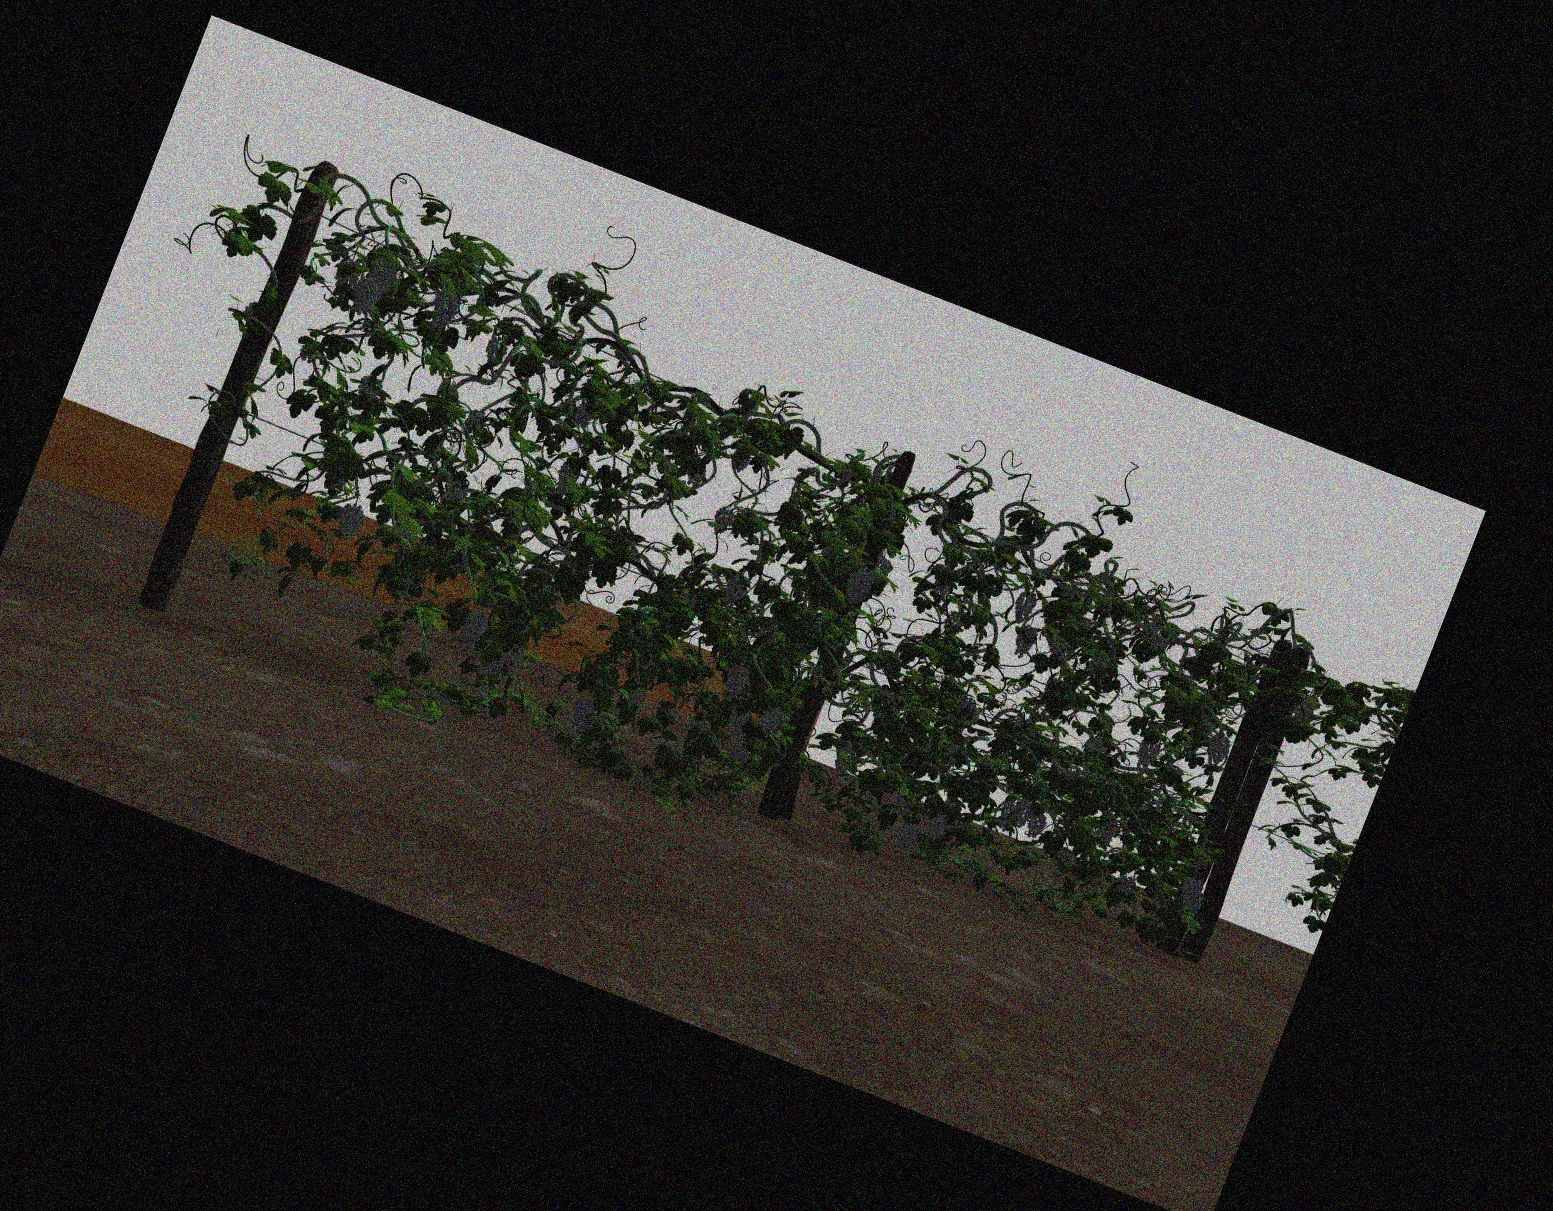grape: (431, 289, 458, 328), (337, 502, 361, 541), (843, 566, 869, 602), (368, 257, 395, 290), (463, 607, 487, 643), (758, 704, 782, 737), (441, 480, 466, 510), (724, 664, 748, 696), (569, 698, 591, 731), (894, 822, 916, 853), (834, 737, 853, 775), (1013, 590, 1035, 623), (726, 704, 746, 738), (555, 462, 577, 491), (1095, 817, 1118, 846), (1136, 738, 1158, 767), (724, 573, 745, 604), (1205, 733, 1227, 764), (1013, 624, 1032, 657), (355, 278, 376, 309), (925, 813, 945, 843), (1179, 875, 1203, 898), (1291, 697, 1315, 721), (484, 336, 505, 363), (1011, 799, 1031, 825), (357, 374, 379, 397), (572, 402, 592, 427), (1026, 812, 1045, 838), (712, 507, 732, 531), (505, 641, 524, 667), (487, 649, 504, 675), (465, 407, 484, 430), (1054, 847, 1075, 866), (1114, 875, 1136, 893), (730, 745, 749, 764), (874, 556, 892, 575), (626, 689, 642, 708), (1181, 898, 1199, 914)
